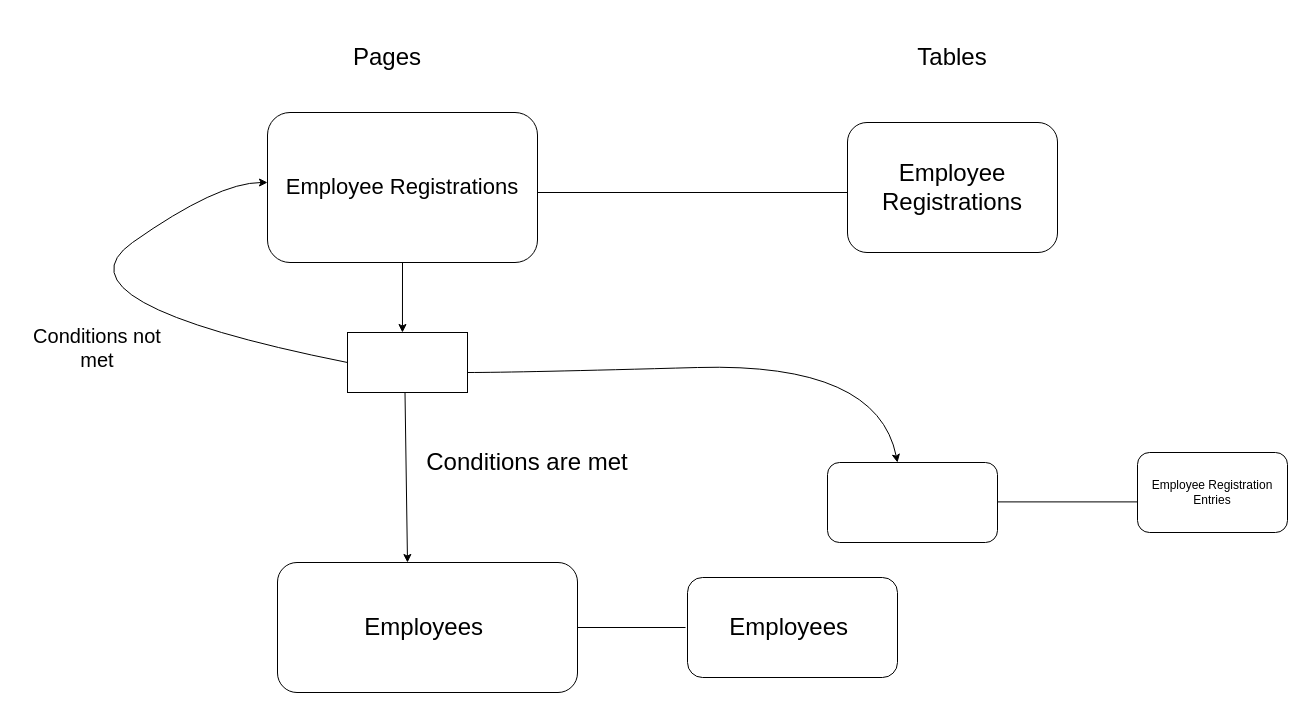
Image size: 1305x710. Some labels were removed from this diagram. The shapes that lost their labels are listed below. From the top down, each one's box as (x1, y1, x2, y2) in pixels, then its label:
(346, 332, 468, 392): Submit
(826, 462, 998, 542): Employee Registratyion Entries
